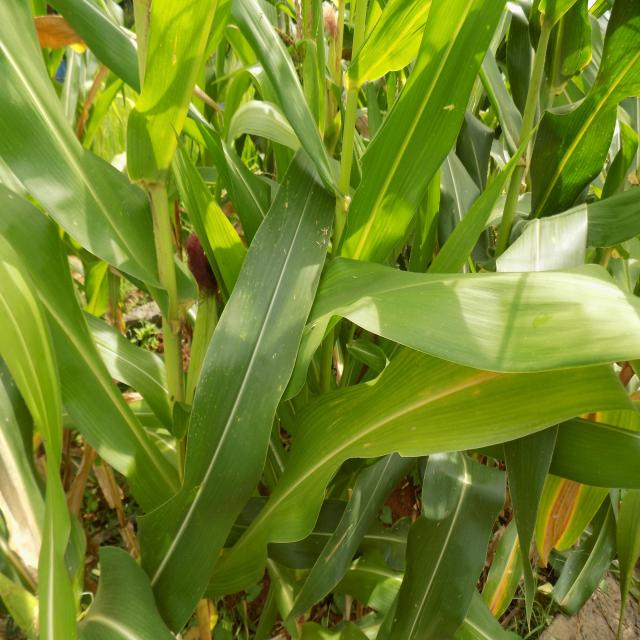millet_healthy: (206, 348, 634, 596), (138, 147, 334, 632), (0, 185, 180, 511), (0, 0, 167, 313), (340, 0, 505, 263), (307, 257, 640, 372), (126, 0, 216, 406), (531, 0, 640, 217), (381, 452, 506, 640), (0, 235, 61, 470), (37, 454, 76, 640)
